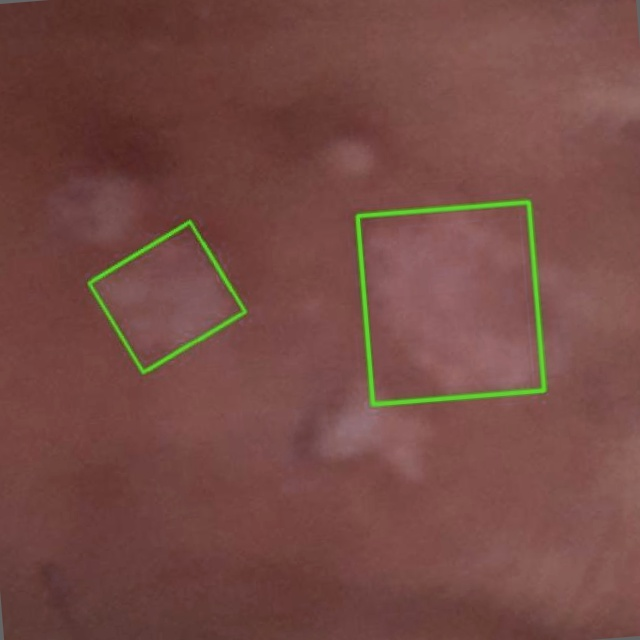Eczema: (357, 202, 544, 404), (88, 221, 244, 372)
